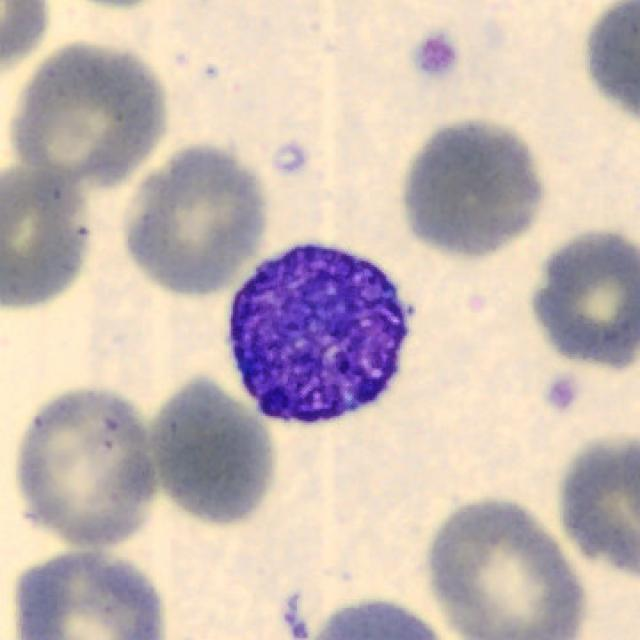Linfocito: (228, 245, 409, 425)
